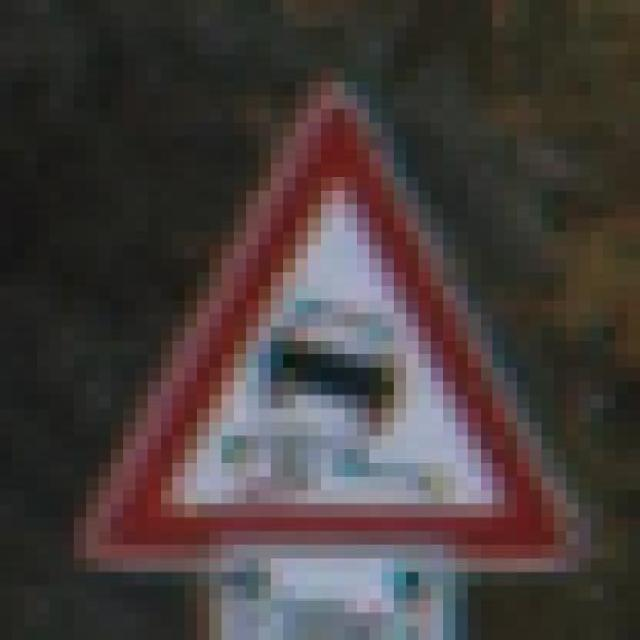Slippery Road Ahead: (74, 82, 603, 600)
